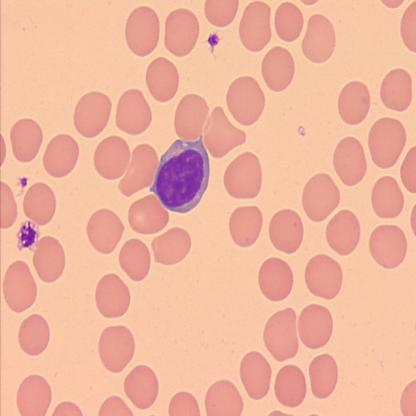Lymphocyte: (150, 135, 210, 215)
